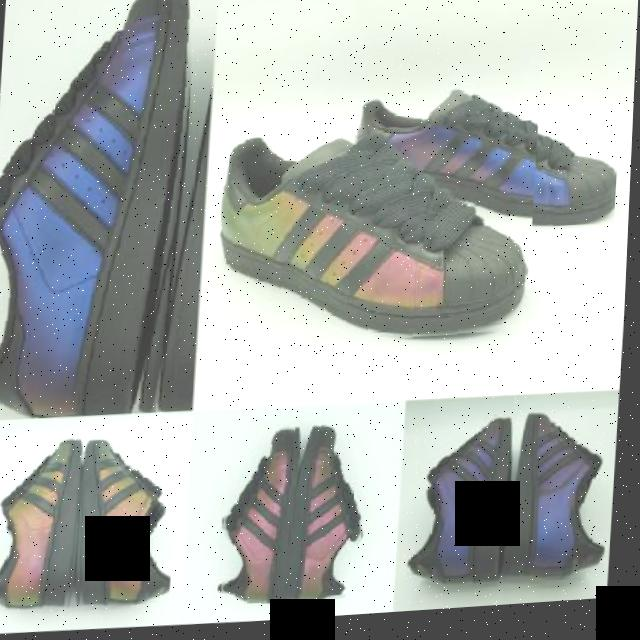shoe: (0, 0, 200, 424), (212, 121, 540, 360), (348, 83, 623, 246), (410, 419, 520, 594), (509, 415, 618, 591), (79, 436, 183, 610), (221, 427, 307, 611), (0, 437, 89, 614), (290, 427, 374, 612)
